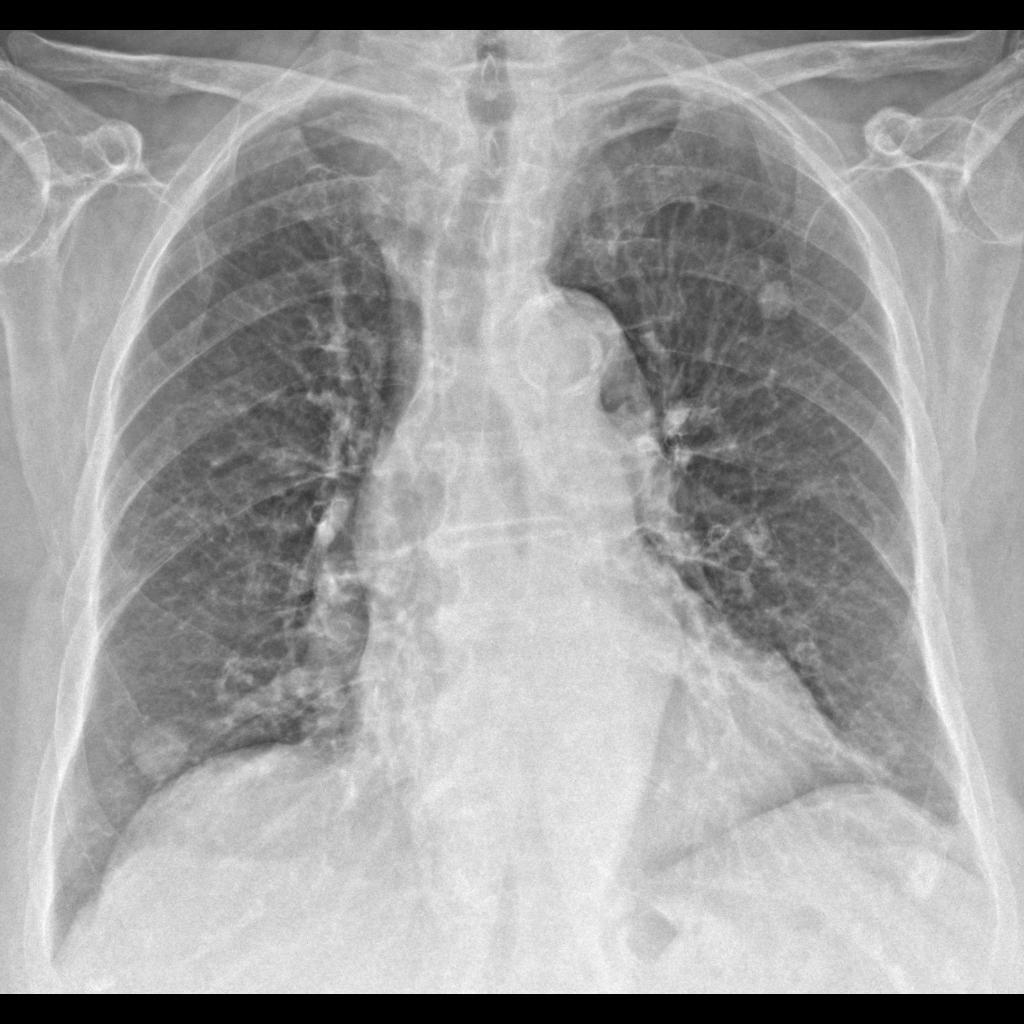Nodule: (131, 709, 196, 791), (748, 266, 812, 331)
